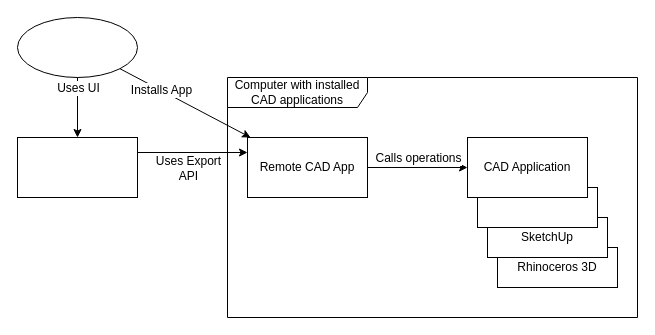
Some shapes in this 655 by 335 pixel diagram are drawn without their labels. The shapes that lost their labels are listed below. From the top down, each one's centre as x and y in pixels, then its label:
[77,47]: Architect
[77,167]: Web Page
[537,207]: AutoCAD
